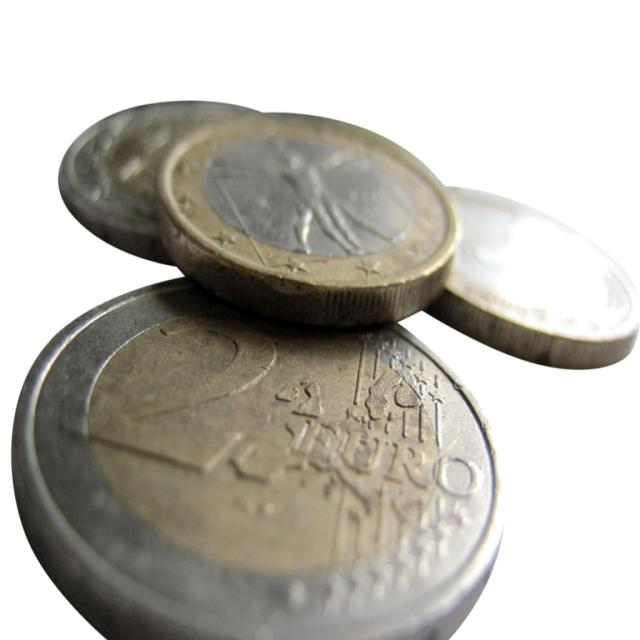Coin: (7, 276, 510, 639), (153, 110, 462, 331), (418, 187, 640, 370), (56, 94, 266, 259)
